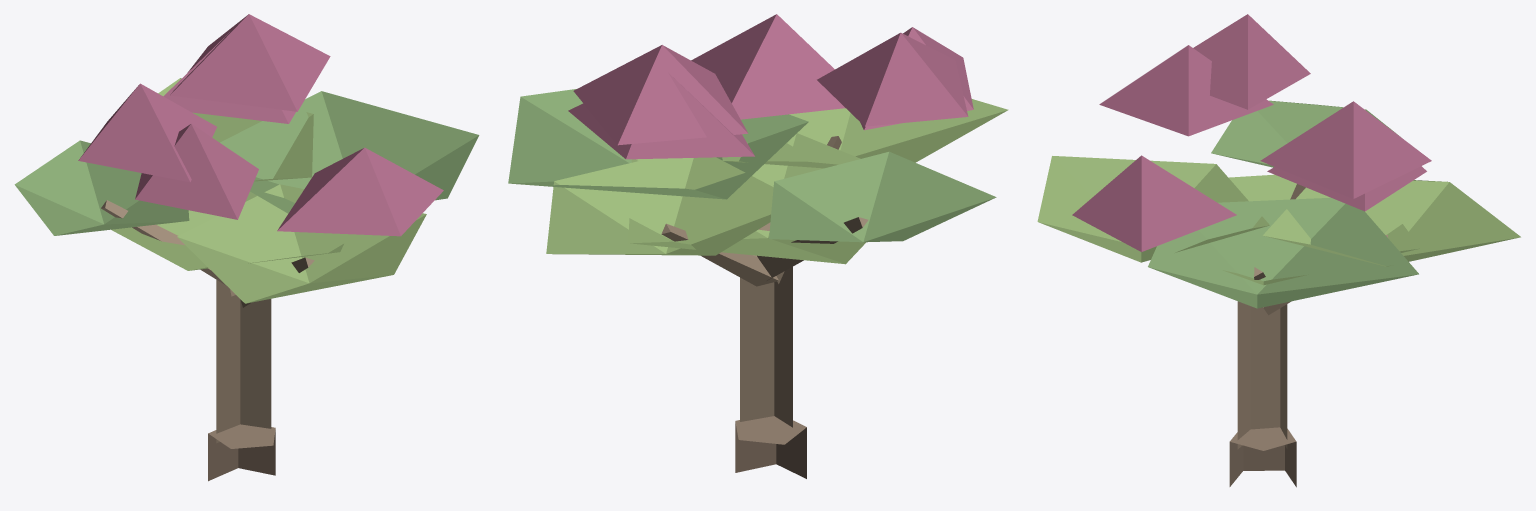
The model's file is tree.sub.acacia__bloom.glb.
3 views of the same model, side by side, from view 1: azimuth 30°, elevation 25°; view 2: azimuth 150°, elevation 25°; view 3: azimuth 270°, elevation 25° (orthographic). The views are drawn at different scales.
Visible parts, largest first — view 1: tree.sub.acacia__bloom; view 2: tree.sub.acacia__bloom; view 3: tree.sub.acacia__bloom.
Boxes of the visible parts, x1,y1,x2,y2 form: tree.sub.acacia__bloom: [14, 14, 479, 481]; tree.sub.acacia__bloom: [508, 14, 1008, 478]; tree.sub.acacia__bloom: [1037, 14, 1520, 487].
Bounding box in the file's own units: 8.67 × 8.33 × 8.79.
